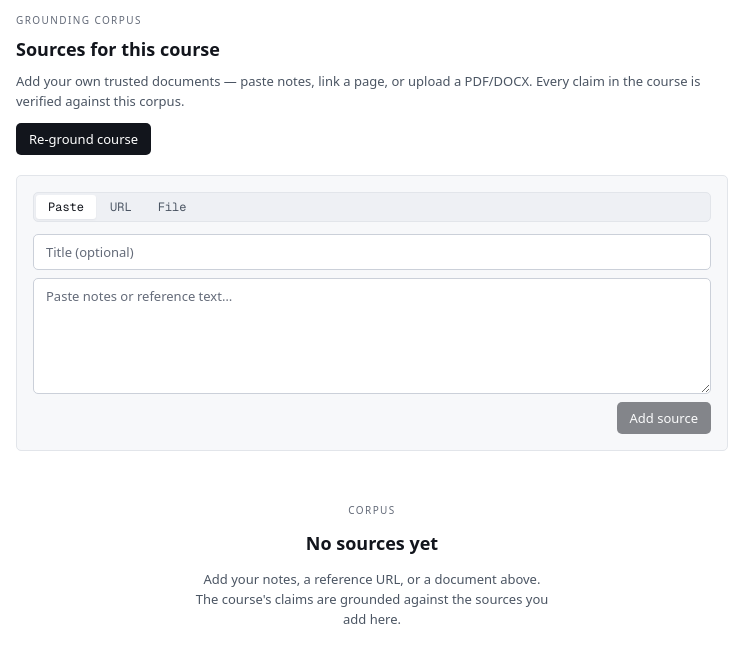
CorpusPanel › reports a declined source (e.g. a duplicate)
Expected: the heading "No sources yet" is shown, [306,530,438,557]
Type "dup" into the text box with placeholder "Paste notes or reference text…".
click(372, 336); type("dup")  # box [33,278,711,394]
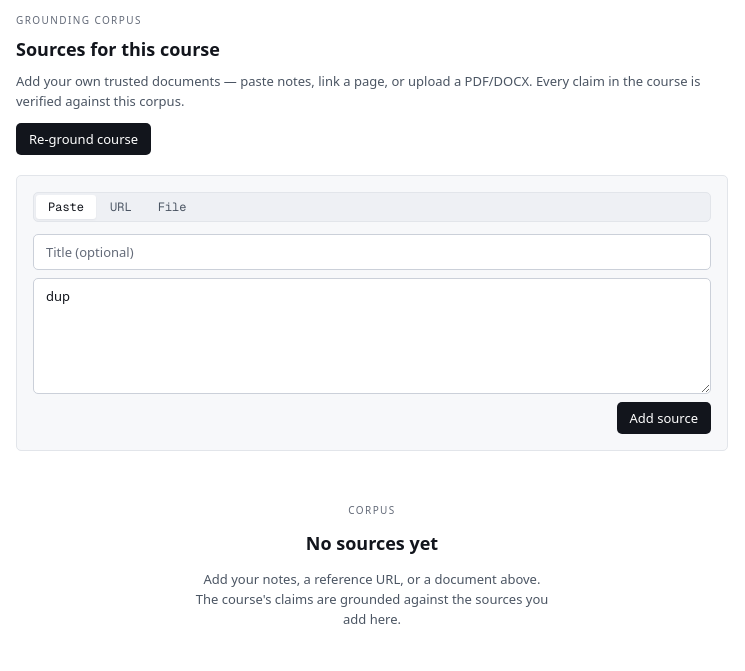
Click the button "Add source".
click(664, 418)  # box [616,402,711,434]
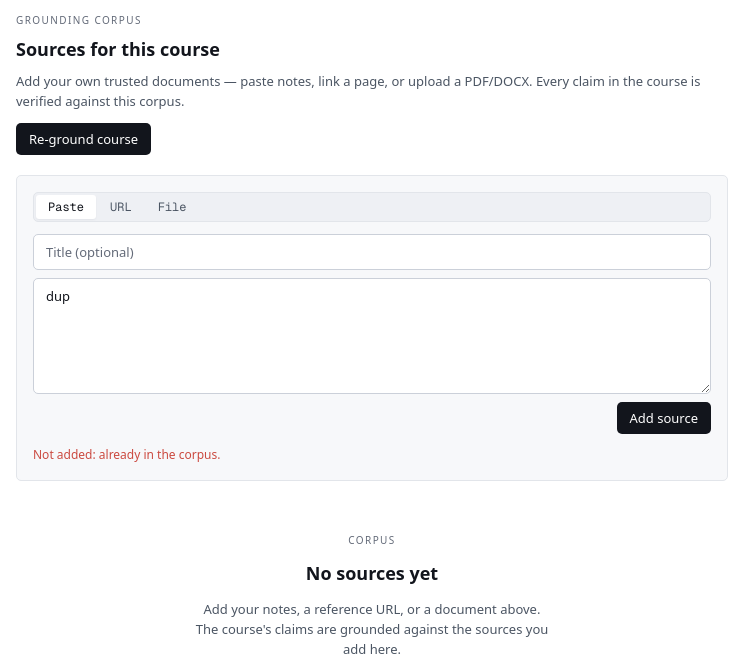
Expected: the message shows "already in the corpus", [99,446,217,463]
